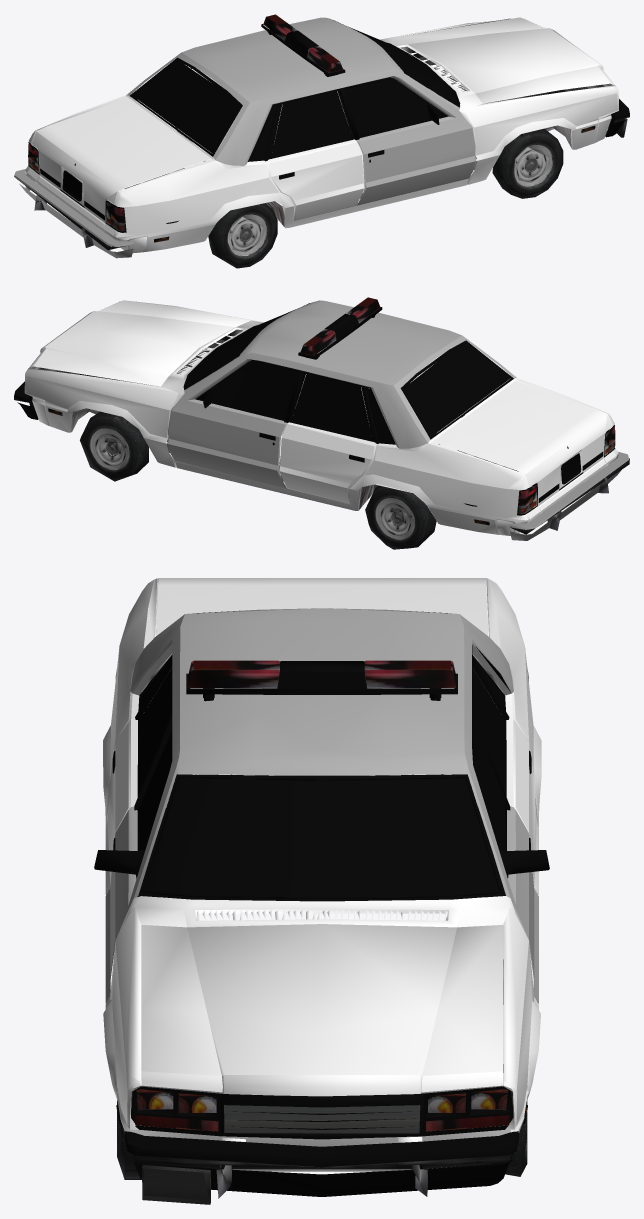
Rendered from car_cruiser.glb.
The picture shows the model from 3 angles, top to bottom: view 1: azimuth 30°, elevation 25°; view 2: azimuth 150°, elevation 25°; view 3: azimuth 270°, elevation 25°; orthographic projection. The views are drawn at different scales.
Parts seen in each view (by area): view 1: body, paint; view 2: body, paint; view 3: body, paint.
Boxes of the visible parts, left/top/right/bottom form: body: left=14, top=14, right=629, bottom=268; paint: left=25, top=17, right=618, bottom=253; body: left=14, top=297, right=629, bottom=549; paint: left=24, top=300, right=618, bottom=535; body: left=94, top=608, right=549, bottom=1204; paint: left=103, top=578, right=541, bottom=1171.
Size of the model in its own units: 5.39 by 1.6 by 1.99.
1 material, 1 textured.
